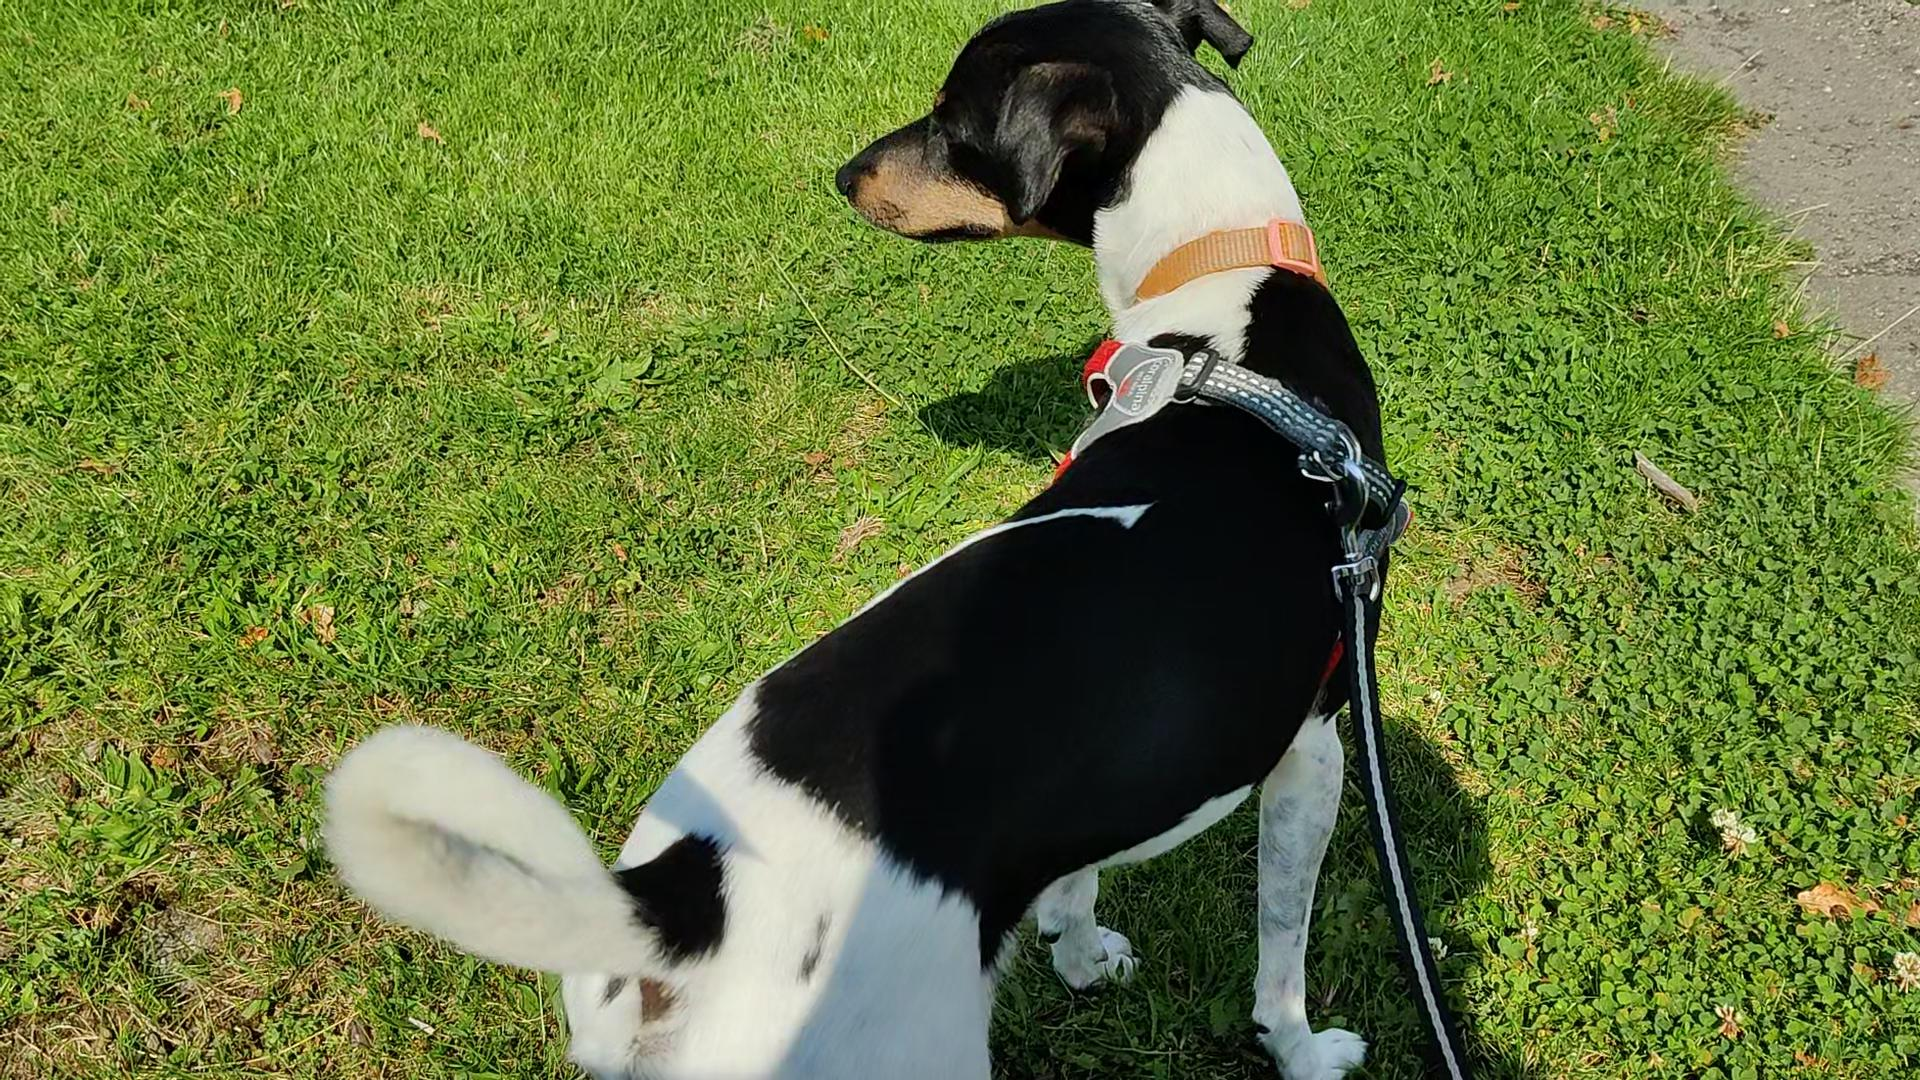Dog: (318, 0, 1393, 1079)
